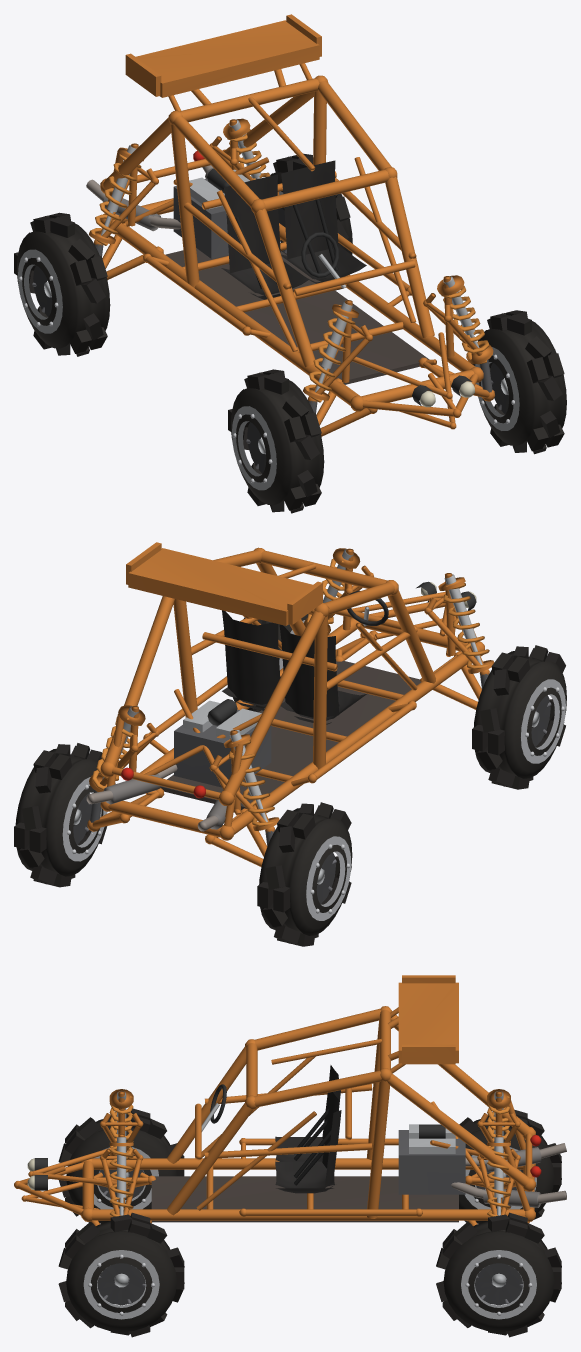
File: buggy.glb
3 views of the same model, one above another, from view 1: azimuth 30°, elevation 25°; view 2: azimuth 150°, elevation 25°; view 3: azimuth 270°, elevation 25° (orthographic). The views are drawn at different scales.
Visible parts, largest first — view 1: chassis, wheel_rl, wheel_fl, wheel_fr, coil_fl, coil_fr, coil_rl, wheel_rr, coil_rr, arm_fl, arm_rl, arm_upper_rl (+1 smaller); view 2: chassis, wheel_fl, wheel_rl, wheel_rr, coil_fl, coil_rl, coil_rr, coil_fr, arm_rl, arm_fl, arm_rr, arm_upper_fl (+1 smaller); view 3: chassis, wheel_fr, wheel_rr, wheel_fl, wheel_rl, coil_fr, coil_rr, coil_fl, coil_rl, arm_upper_fr, arm_upper_rr.
Boxes of the visible parts, x1,y1,x2,y2 form: chassis: [86, 14, 483, 429]; wheel_rl: [14, 212, 110, 356]; wheel_fl: [228, 369, 324, 513]; wheel_fr: [471, 310, 566, 454]; coil_fl: [303, 302, 358, 402]; coil_fr: [437, 275, 493, 364]; coil_rl: [89, 145, 143, 245]; wheel_rr: [270, 153, 352, 290]; coil_rr: [223, 118, 279, 195]; arm_fl: [316, 378, 377, 436]; arm_rl: [102, 223, 163, 279]; arm_upper_rl: [93, 168, 158, 245]; chassis: [86, 542, 484, 840]; wheel_fl: [472, 645, 566, 789]; wheel_rl: [257, 802, 352, 946]; wheel_rr: [14, 743, 107, 887]; coil_fl: [438, 574, 494, 673]; coil_rl: [224, 732, 279, 830]; coil_rr: [89, 705, 145, 791]; coil_fr: [303, 548, 360, 634]; arm_rl: [205, 808, 267, 866]; arm_fl: [420, 651, 481, 709]; arm_rr: [87, 788, 164, 831]; arm_upper_fl: [424, 596, 489, 675]; chassis: [14, 975, 566, 1222]; wheel_fr: [58, 1212, 184, 1337]; wheel_rr: [436, 1212, 561, 1337]; wheel_fl: [58, 1108, 184, 1223]; wheel_rl: [459, 1109, 561, 1223]; coil_fr: [109, 1137, 133, 1216]; coil_rr: [487, 1137, 510, 1216]; coil_fl: [109, 1089, 133, 1155]; coil_rl: [487, 1089, 510, 1153]; arm_upper_fr: [99, 1155, 143, 1215]; arm_upper_rr: [477, 1155, 520, 1215].
Size of the model in its own units: 1.8 by 1.77 by 3.31.
